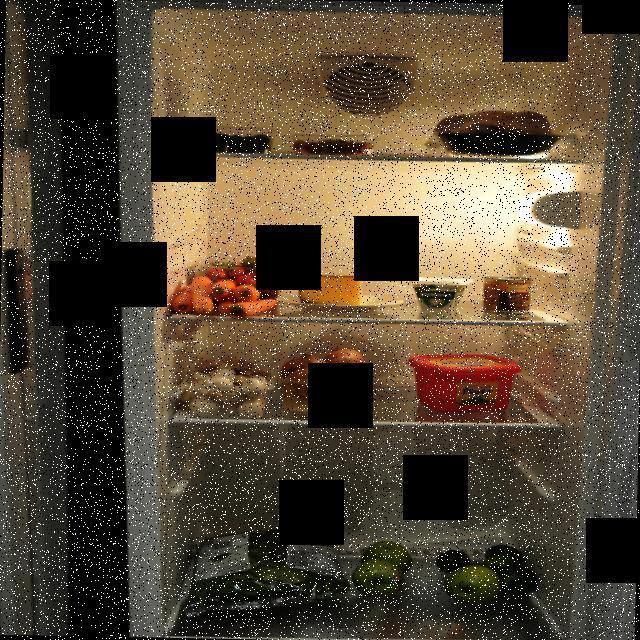apple: (351, 538, 417, 604), (444, 560, 504, 606)
blueberries: (188, 131, 272, 155)
butter: (409, 351, 522, 412)
carrot: (166, 274, 284, 318)
cheese: (295, 271, 367, 309)
chicken breast: (424, 106, 566, 158)
corn: (482, 276, 533, 316)
goat_cheese: (406, 274, 473, 312)
lime: (483, 544, 538, 594), (436, 550, 472, 573)
mushrooms: (176, 357, 278, 417)
onion: (277, 346, 368, 408)
shrimp: (291, 138, 374, 158)
spinach: (182, 524, 360, 622)
strawberries: (206, 254, 282, 293)
